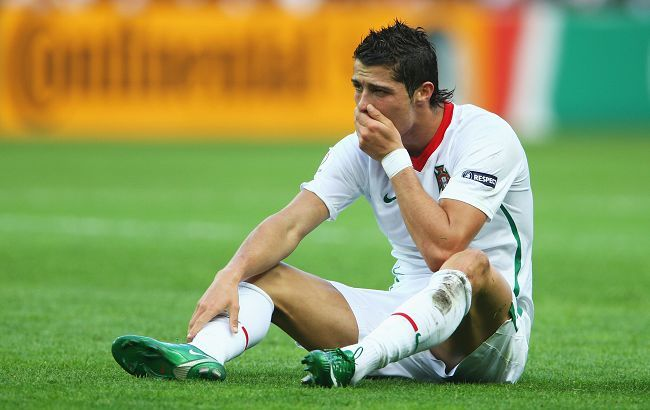face: (352, 63, 417, 142)
